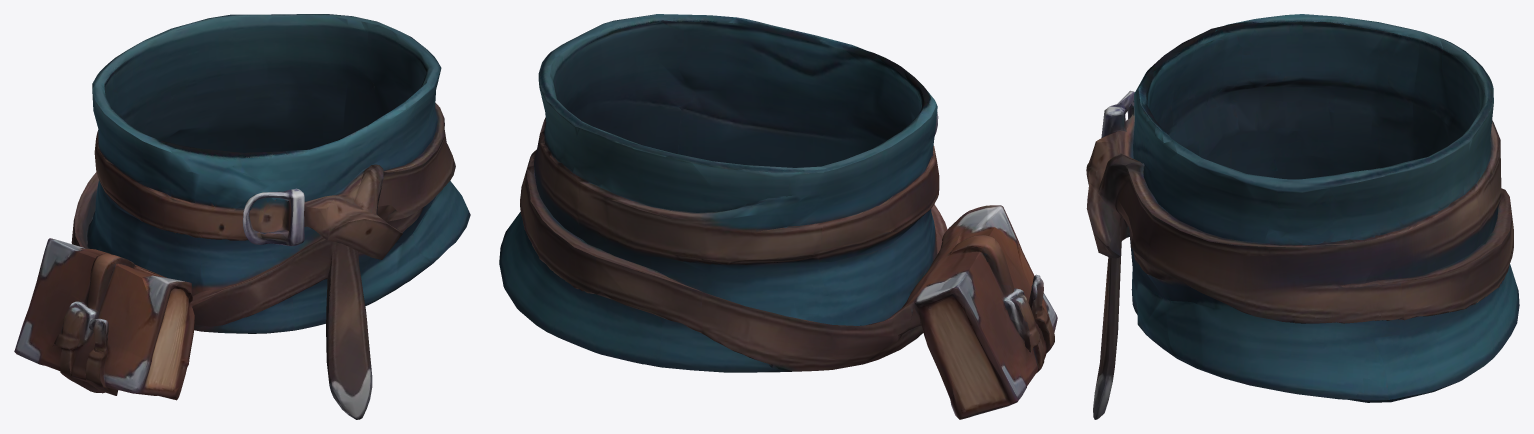
File: mage_f_belt.glb
The picture shows the model from 3 angles, left to right: view 1: azimuth 30°, elevation 25°; view 2: azimuth 150°, elevation 25°; view 3: azimuth 270°, elevation 25°; orthographic projection. The views are drawn at different scales.
Visible parts, largest first — view 1: world; view 2: world; view 3: world.
Boxes of the visible parts, x1=… form: world: x1=14, y1=14, x2=470, y2=419; world: x1=499, y1=14, x2=1057, y2=419; world: x1=1086, y1=14, x2=1519, y2=419.
Bounding box in the file's own units: 0.4298 × 0.2596 × 0.3099.
1 material, 1 textured.
